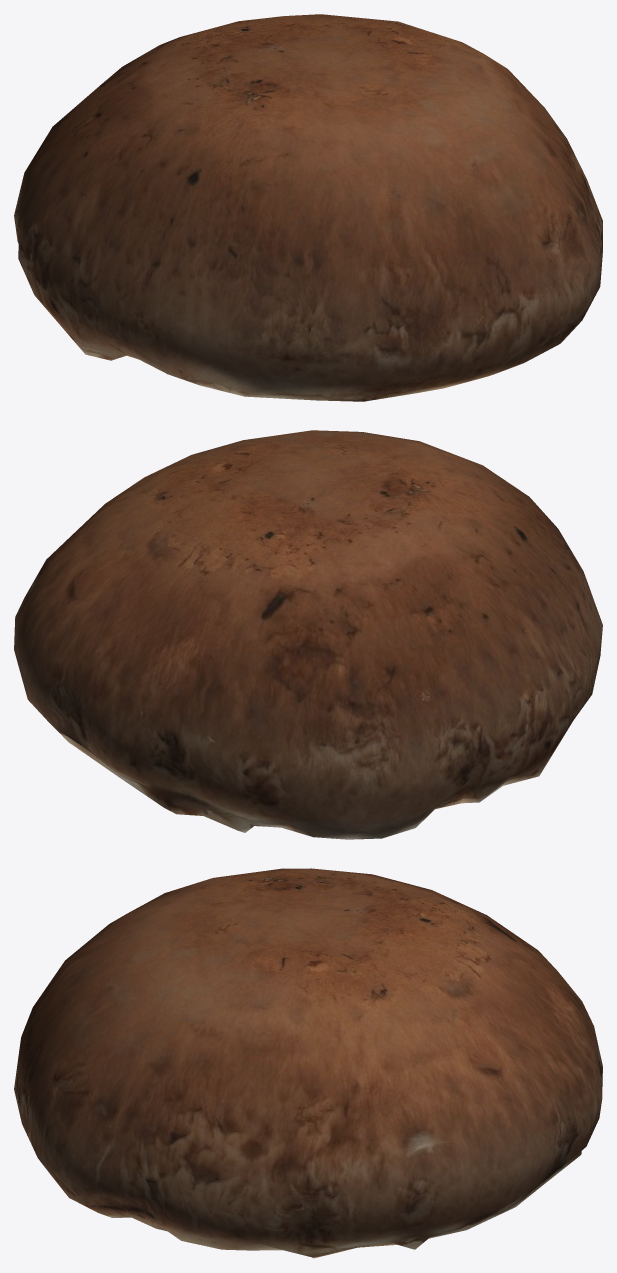
Rendered from portobello.glb.
The picture shows the model from 3 angles, top to bottom: view 1: azimuth 30°, elevation 25°; view 2: azimuth 150°, elevation 25°; view 3: azimuth 270°, elevation 25°; orthographic projection.
Parts seen in each view (by area): view 1: mushroom_09; view 2: mushroom_09; view 3: mushroom_09.
Boxes of the visible parts, <box> form: mushroom_09: <box>14,14,602,401</box>; mushroom_09: <box>14,430,602,839</box>; mushroom_09: <box>14,868,602,1258</box>.
Bounding box in the file's own units: 6.37 × 3.18 × 6.48.
1 material, 1 textured.
